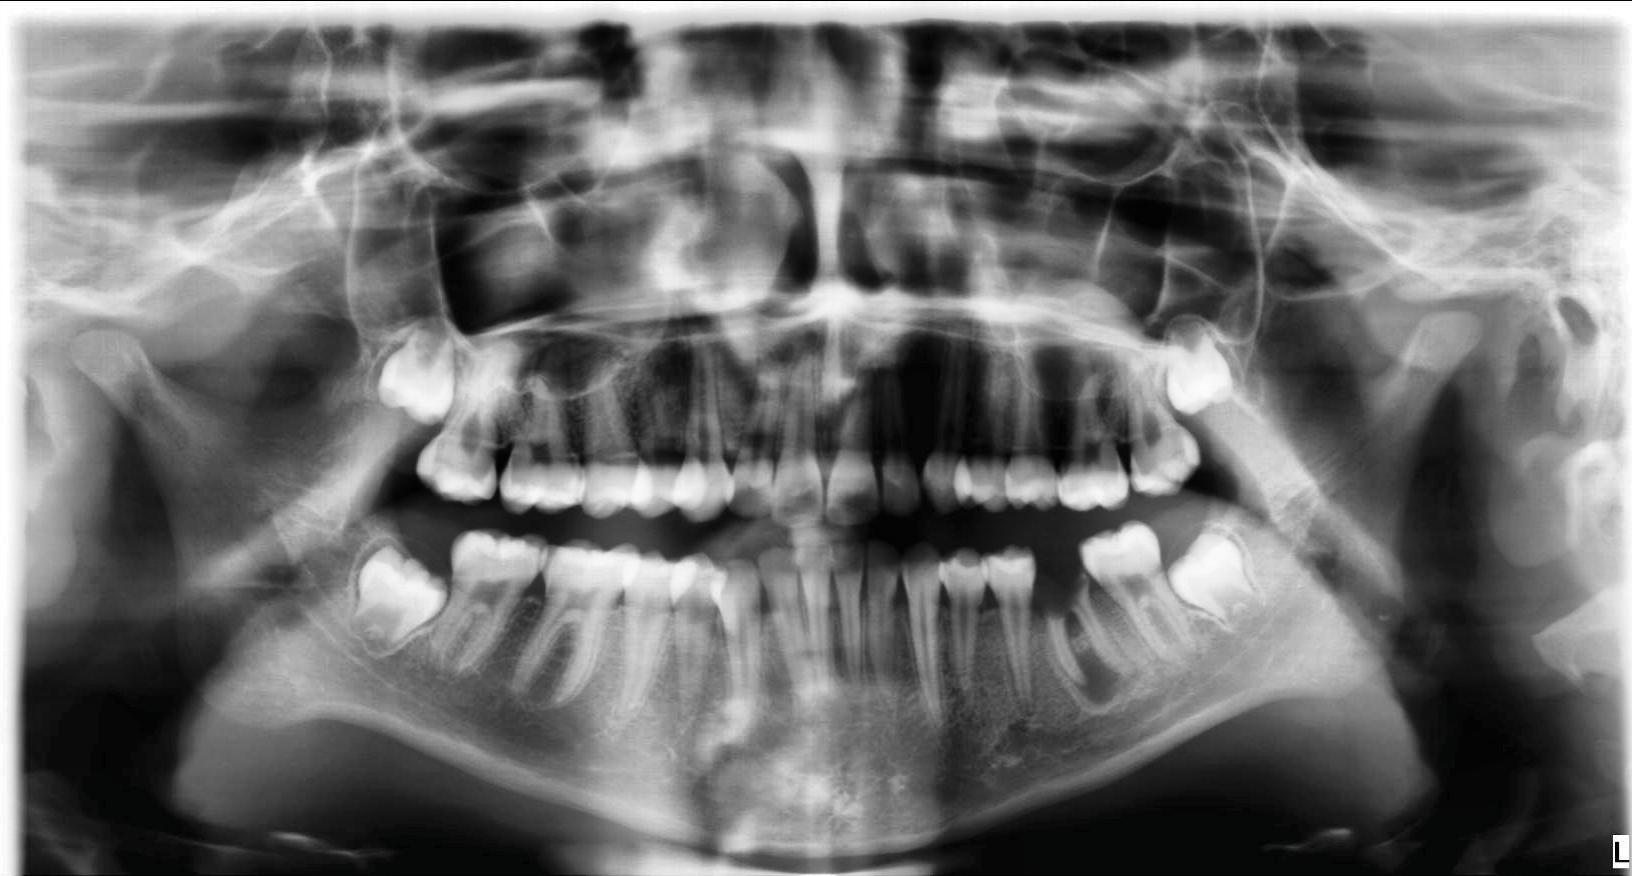radikuler: (1059, 643, 1119, 707)
